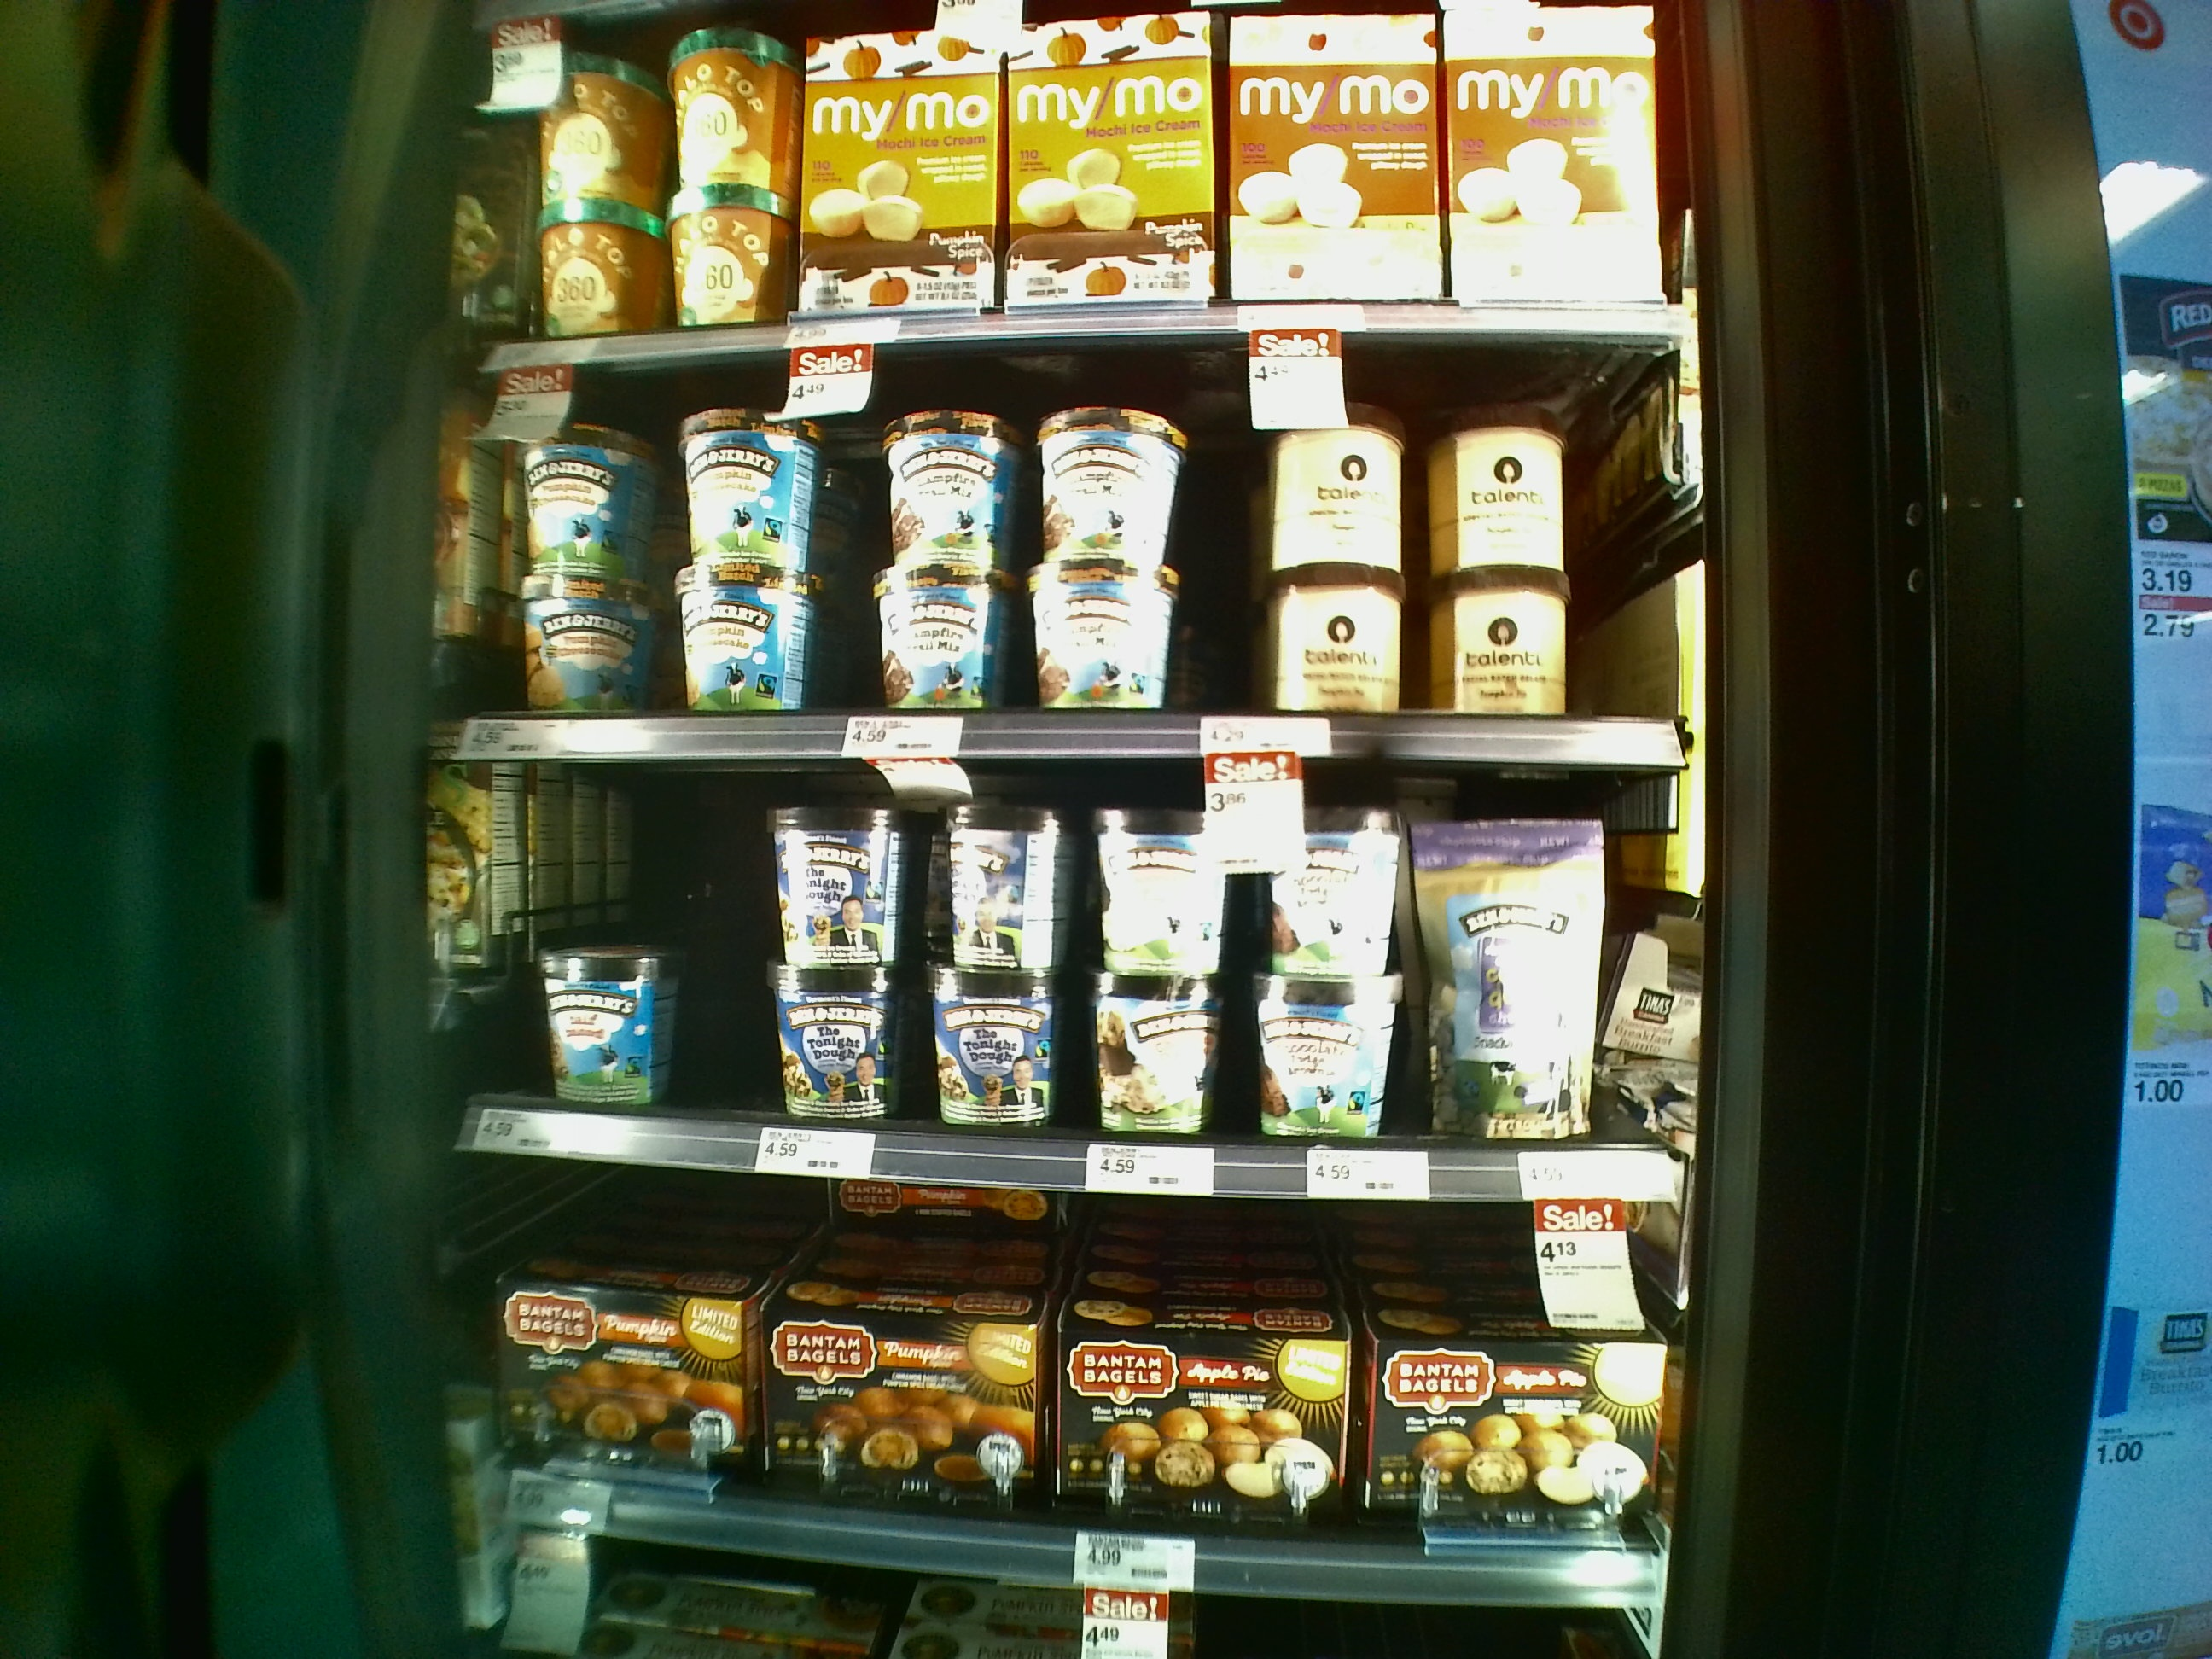shelf: (402, 1121, 1674, 1617), (418, 732, 1698, 1197), (444, 347, 1695, 779)
